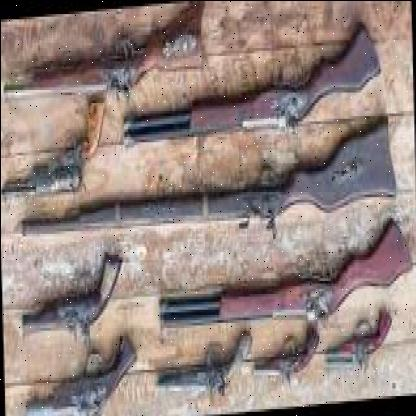rifle: (17, 154, 395, 254), (158, 238, 410, 340)
